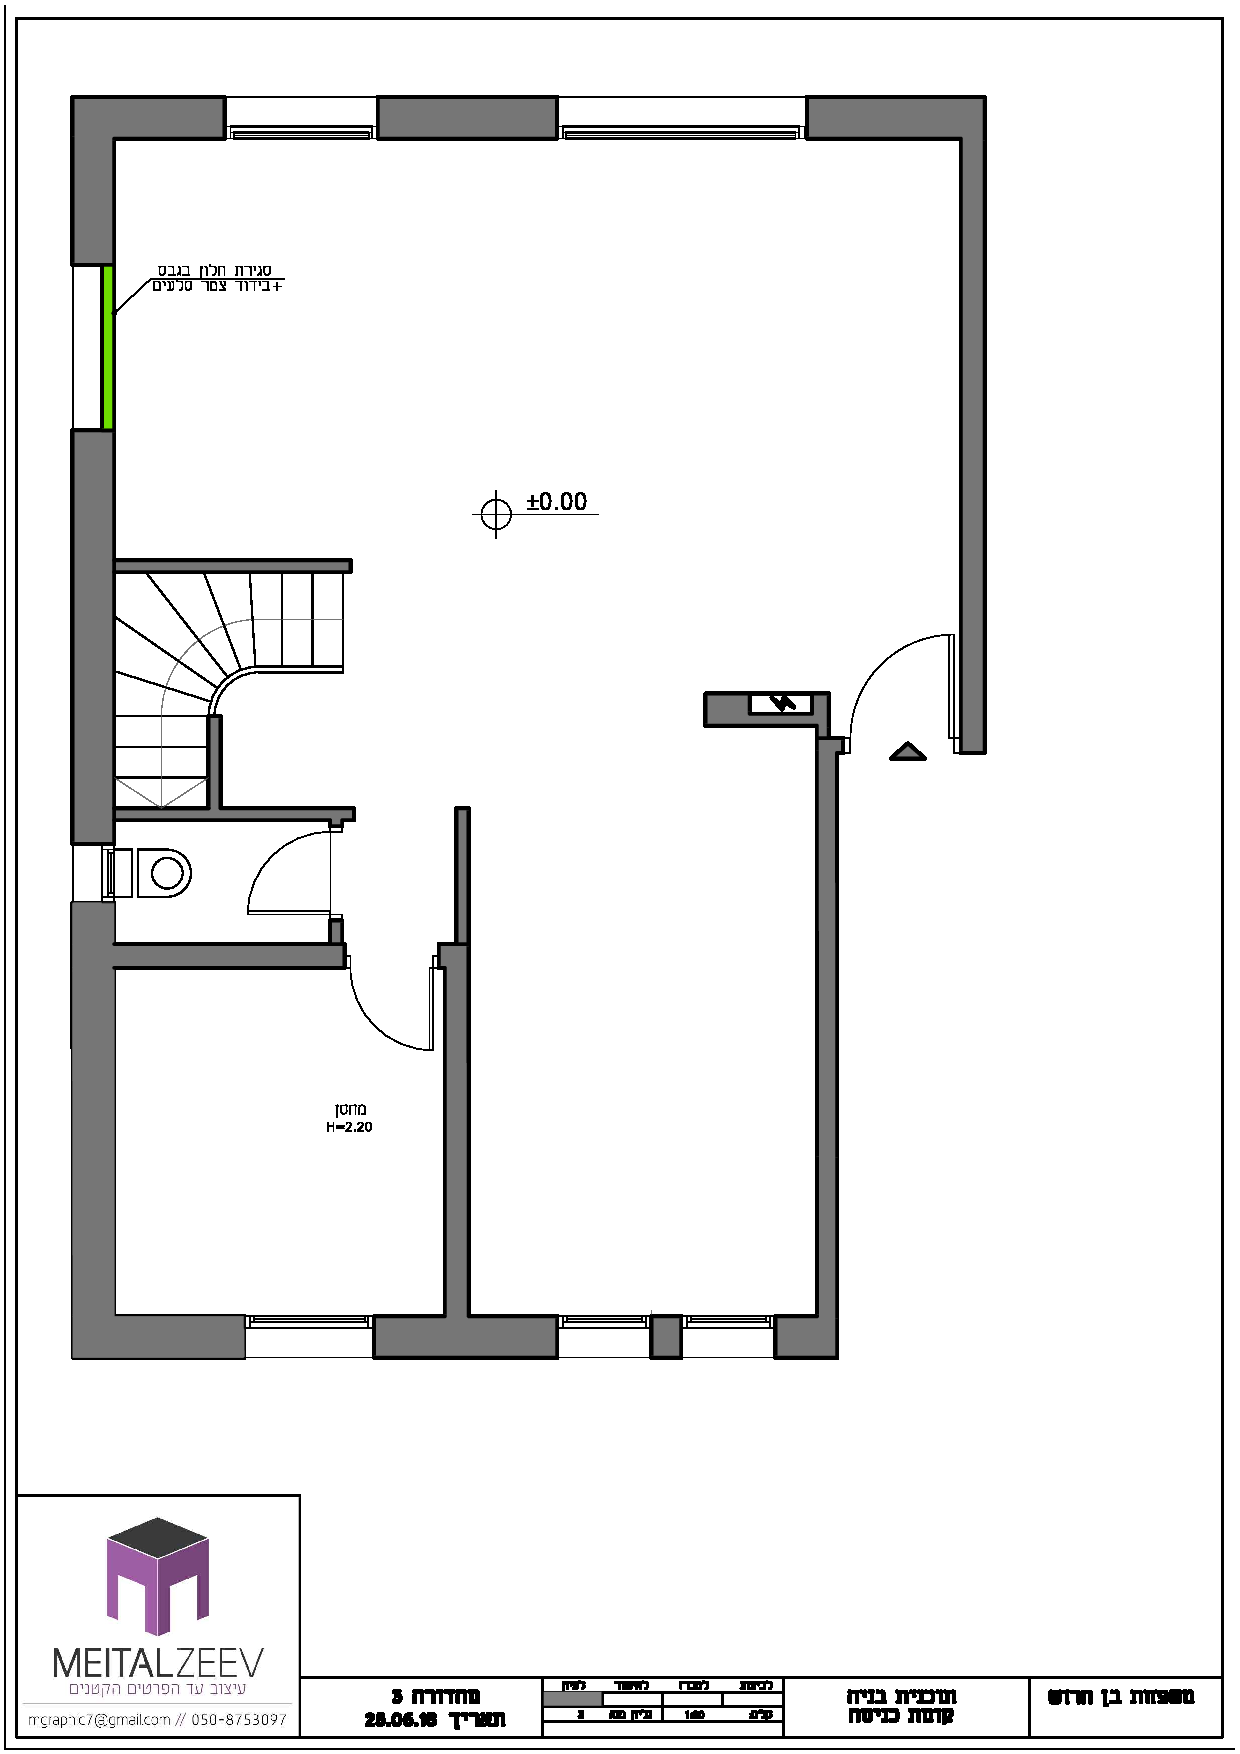door: (849, 621, 962, 727), (331, 981, 437, 1070), (240, 832, 323, 927)
wall: (72, 900, 114, 1363), (70, 429, 115, 841), (958, 93, 986, 754), (374, 1318, 556, 1357)
